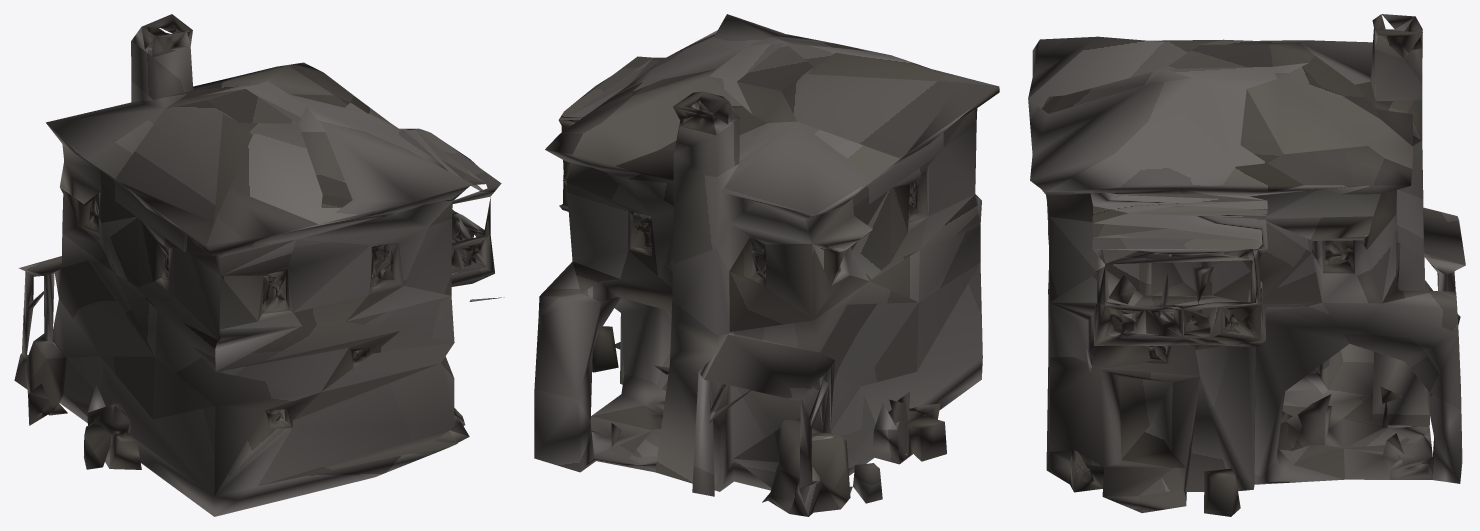
File: house_craftsman_1_lo.glb
3 renders of one model, left to right at view 1: azimuth 30°, elevation 25°; view 2: azimuth 150°, elevation 25°; view 3: azimuth 270°, elevation 25°, orthographic. The views are drawn at different scales.
Parts seen in each view (by area): view 1: house_craftsman_1; view 2: house_craftsman_1; view 3: house_craftsman_1.
Boxes of the visible parts, x1=… form: house_craftsman_1: x1=14, y1=14, x2=504, y2=516; house_craftsman_1: x1=534, y1=14, x2=999, y2=516; house_craftsman_1: x1=1028, y1=14, x2=1465, y2=516.
Bounding box in the file's own units: 0.9632 × 0.9 × 0.9132.
1 material, 1 textured.
